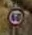limite 60: (6, 7, 24, 26)
